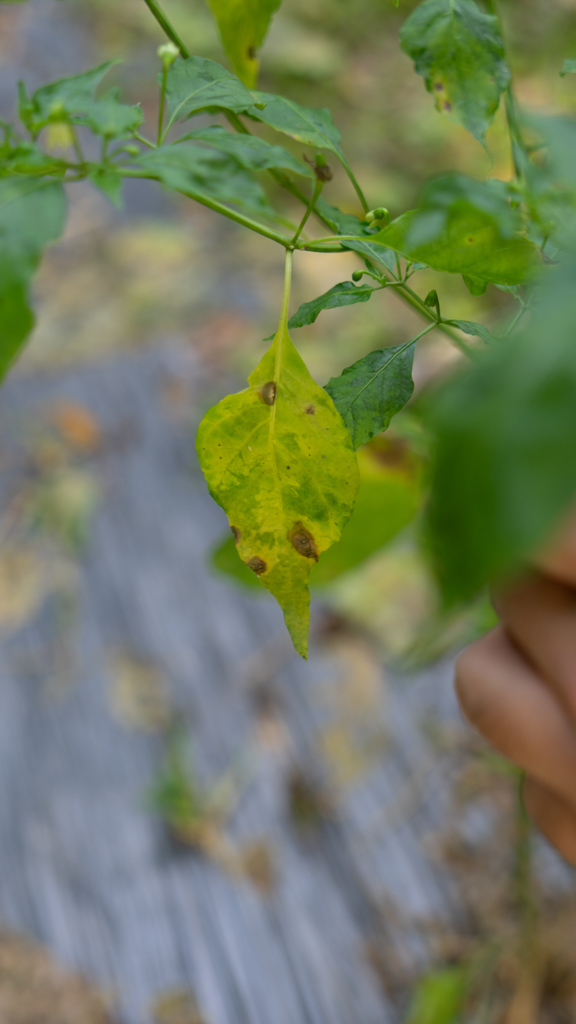Canker: (281, 514, 320, 565), (240, 554, 271, 586), (254, 378, 280, 411), (230, 518, 246, 548), (305, 398, 317, 420)
Pepper yellow leaf: (190, 322, 365, 662)
